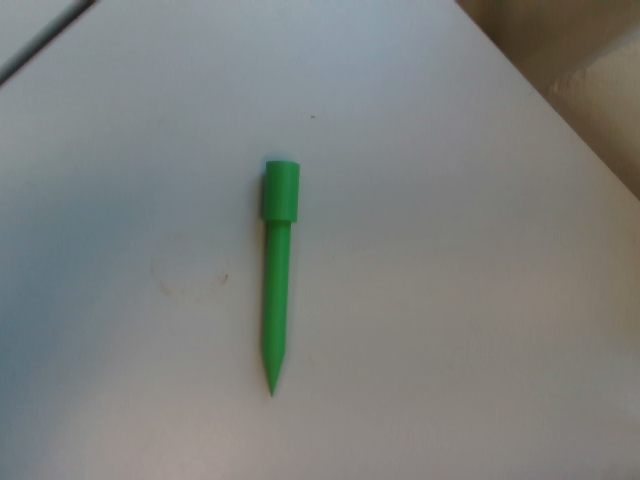Probe: (257, 153, 302, 401)
